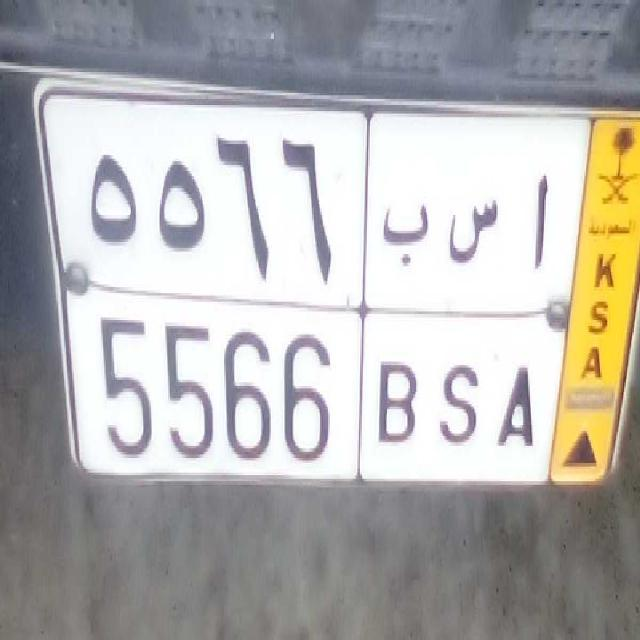license_plate: (78, 293, 554, 495)
